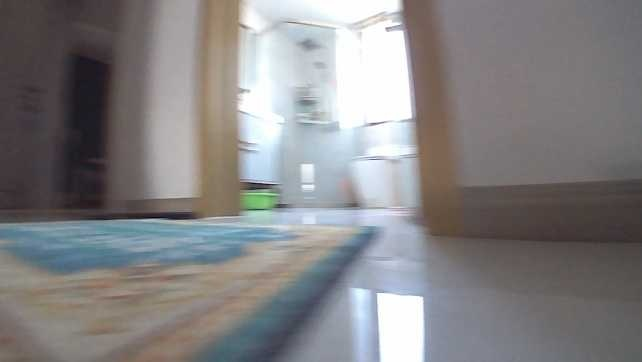blanket: (1, 214, 380, 361)
toilet: (344, 148, 398, 207)
